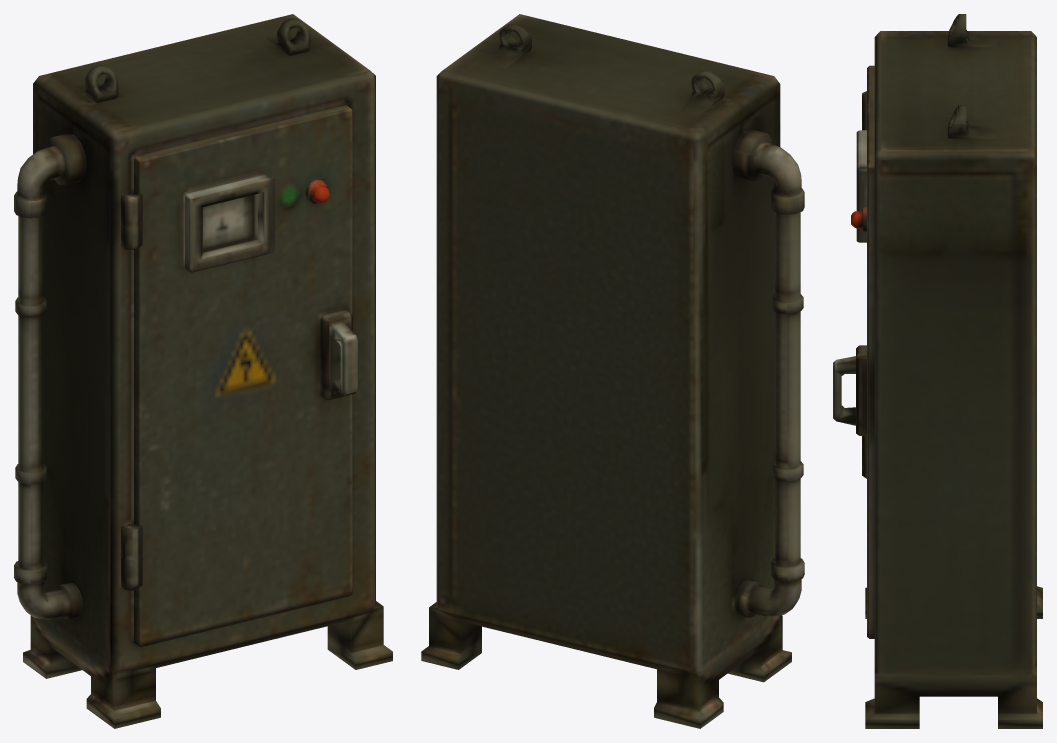
Rendered from electrical_cabinet_tall.fbx.
3 views of the same model, side by side, from view 1: azimuth 30°, elevation 25°; view 2: azimuth 150°, elevation 25°; view 3: azimuth 270°, elevation 25° (orthographic). The views are drawn at different scales.
Visible parts, largest first — view 1: electrical_cabinet_tall; view 2: electrical_cabinet_tall; view 3: electrical_cabinet_tall.
Part boxes in pixels (x1,y1,x2,y2): electrical_cabinet_tall: (14, 14, 392, 728); electrical_cabinet_tall: (421, 14, 804, 728); electrical_cabinet_tall: (833, 14, 1042, 728).
Size of the model in its own units: 92.43 by 164 by 52.01.
